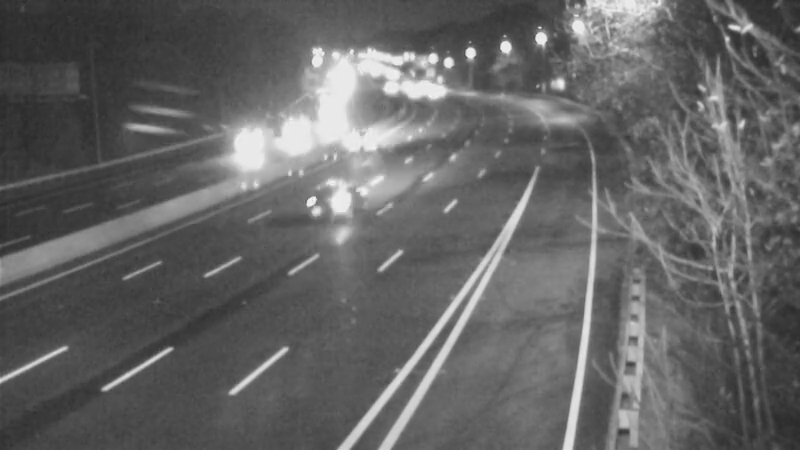vehicle: (304, 159, 384, 239), (214, 110, 294, 190), (344, 116, 394, 166), (270, 107, 320, 157), (306, 99, 356, 149)
